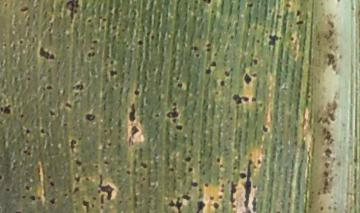tarspot: (241, 156, 253, 213), (95, 172, 114, 201), (64, 1, 80, 25), (37, 46, 55, 63), (165, 100, 181, 119), (231, 92, 250, 106), (228, 181, 238, 204), (266, 33, 281, 48), (128, 102, 138, 122), (129, 125, 142, 140), (242, 71, 254, 86), (174, 196, 184, 213), (70, 81, 86, 91), (1, 103, 13, 116), (194, 200, 206, 213), (81, 198, 91, 213), (197, 159, 205, 177), (251, 196, 259, 213), (69, 138, 77, 155), (22, 145, 32, 157), (108, 68, 117, 81), (260, 124, 270, 135), (72, 173, 82, 184), (84, 113, 97, 121), (173, 123, 184, 132), (138, 161, 149, 170), (294, 18, 305, 26), (18, 6, 30, 13), (99, 193, 106, 205), (250, 57, 259, 66), (71, 186, 80, 195), (133, 88, 141, 98), (63, 102, 73, 110), (188, 180, 198, 188), (152, 112, 162, 120), (16, 38, 26, 46), (219, 78, 226, 89), (167, 197, 174, 208), (204, 67, 212, 76), (48, 109, 57, 117), (49, 197, 57, 206), (73, 158, 82, 166), (183, 155, 192, 163), (86, 51, 95, 59), (148, 33, 157, 41), (239, 171, 246, 181), (288, 34, 295, 44), (38, 127, 46, 135), (208, 194, 216, 202), (2, 1, 10, 9), (250, 95, 257, 104), (72, 91, 81, 98), (135, 39, 144, 46), (182, 193, 191, 200), (212, 202, 221, 209), (24, 126, 31, 135), (186, 166, 193, 175), (109, 57, 115, 67), (45, 84, 53, 91), (209, 60, 216, 68), (193, 51, 201, 58), (204, 46, 212, 53), (176, 82, 184, 89), (24, 184, 31, 192), (48, 180, 55, 188), (223, 70, 231, 77), (61, 121, 69, 128), (295, 9, 301, 18), (245, 2, 254, 8), (125, 170, 134, 176), (256, 157, 262, 166), (228, 114, 234, 123), (202, 1, 212, 6), (171, 118, 178, 125), (191, 44, 198, 51), (84, 175, 91, 182), (107, 140, 114, 147), (110, 23, 117, 30), (30, 194, 36, 202), (20, 193, 28, 199), (102, 159, 110, 165), (254, 38, 262, 44), (275, 13, 283, 19), (267, 7, 272, 16), (284, 3, 290, 10), (4, 187, 11, 193), (203, 182, 209, 189), (215, 156, 221, 163), (218, 194, 224, 201), (220, 187, 226, 194), (25, 75, 32, 81), (64, 45, 71, 51), (107, 116, 114, 122), (151, 66, 157, 73), (167, 167, 175, 172), (206, 41, 212, 47), (220, 180, 226, 186), (141, 176, 147, 182), (232, 165, 238, 171), (101, 17, 108, 22), (1, 172, 4, 183), (13, 209, 21, 213), (252, 72, 257, 78), (18, 113, 24, 118), (63, 192, 68, 198), (86, 18, 92, 23), (100, 25, 105, 31), (25, 138, 30, 144), (252, 164, 258, 169), (214, 90, 219, 96), (91, 202, 96, 208), (92, 39, 97, 44), (219, 163, 224, 168)
